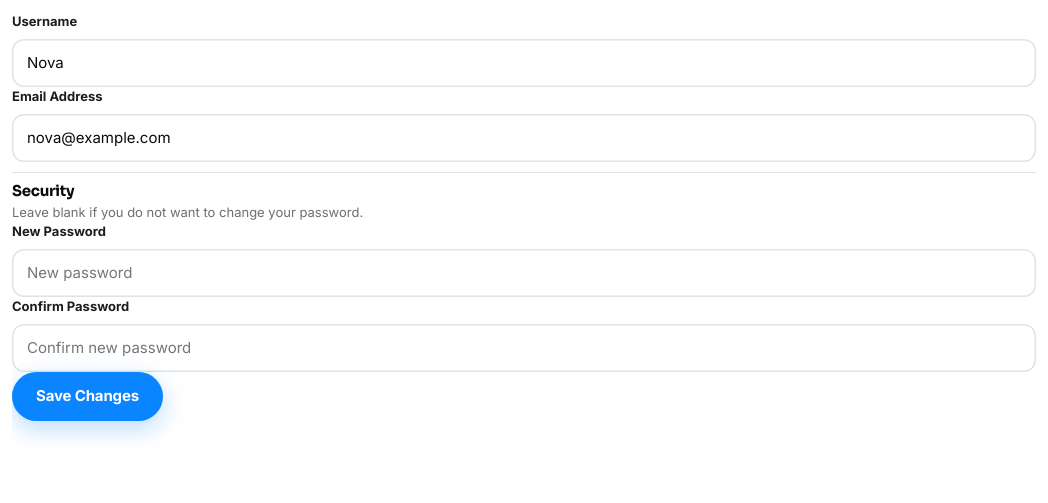
it: ProfileForm › submits trimmed values and displays an API validation error
Replace the text in the field labelled "Username" with "  Nova Admin  " at point(524, 63), box [12,38,1036,87]
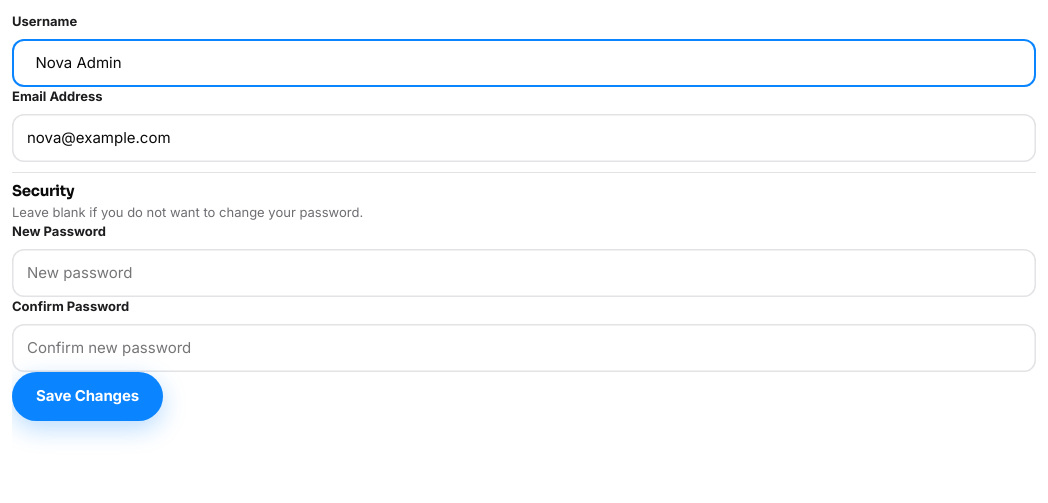
Click the button "Save Changes" at point(88, 396), box [12,372,163,421]
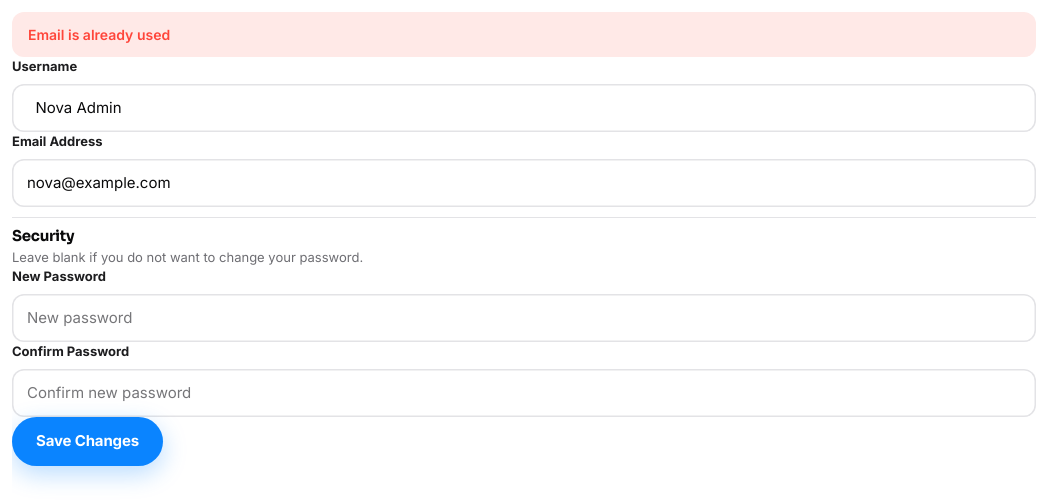
expect the text "Email is already used" is shown: met, box [12,12,1036,57]
